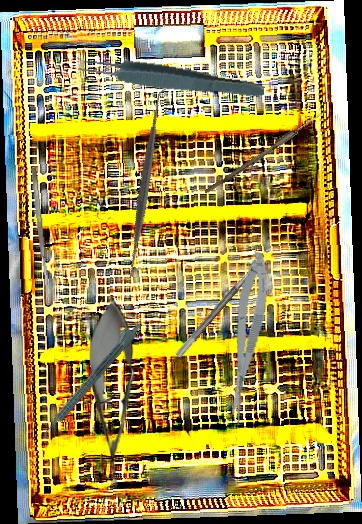Fixation Ring: (174, 258, 271, 366)
Handpiece: (35, 316, 145, 440)
Micro Scissor: (217, 249, 275, 427), (86, 295, 138, 491)
Spatula Surgical: (49, 86, 242, 282), (30, 166, 51, 299)
Surgical Spoon: (204, 106, 329, 197)
Tissue Forceps: (77, 52, 266, 103)
